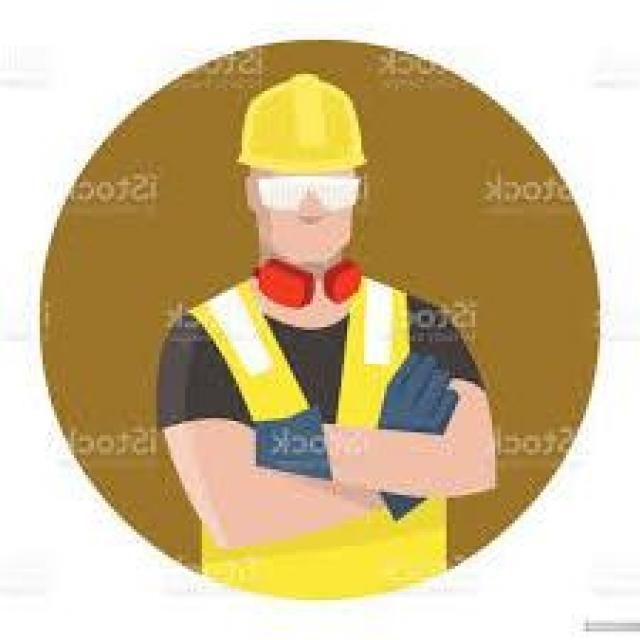reflective_jacket: (173, 275, 435, 600)
safety_helmet: (227, 68, 375, 182)
